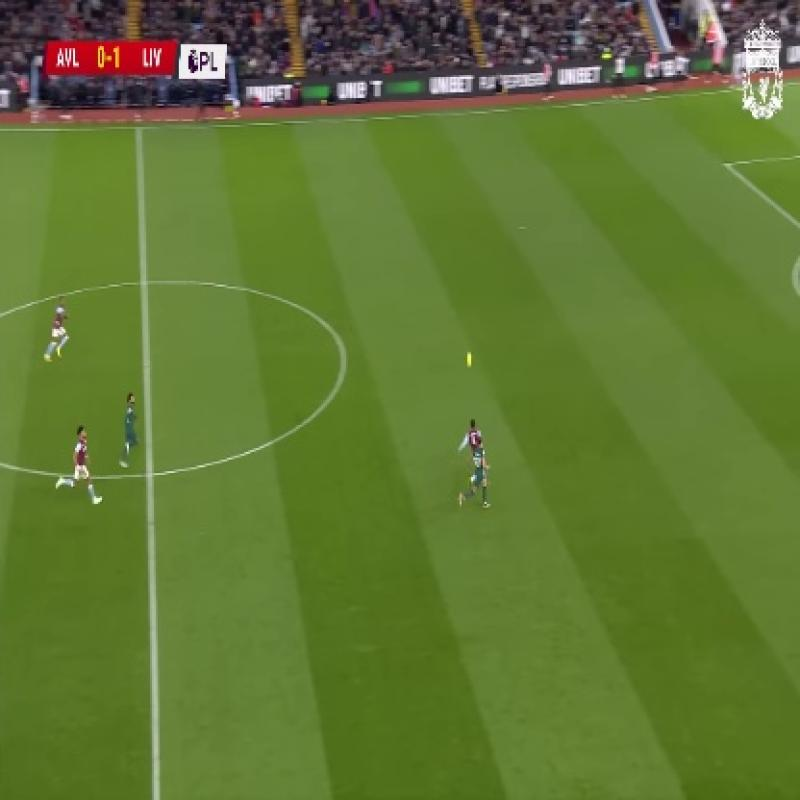13: (129, 114, 148, 140)
14: (127, 261, 158, 302)
15: (132, 450, 162, 494)
9: (716, 150, 734, 177)
c: (324, 338, 366, 376)
